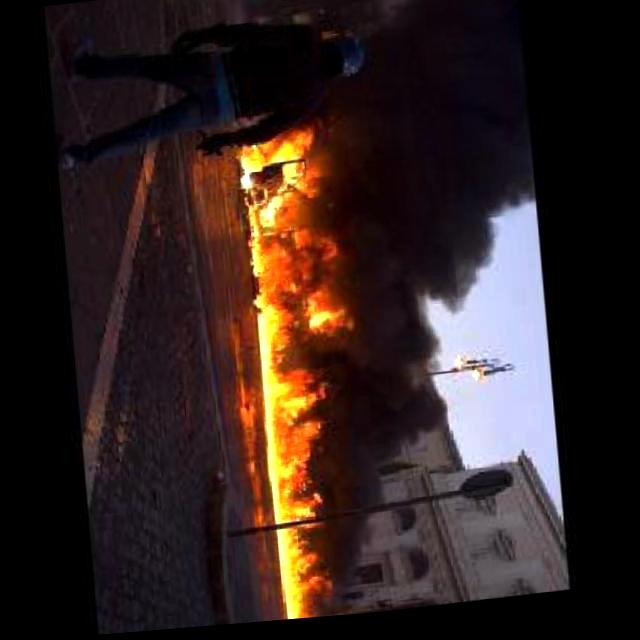fire: (289, 47, 559, 589), (240, 111, 384, 625)
